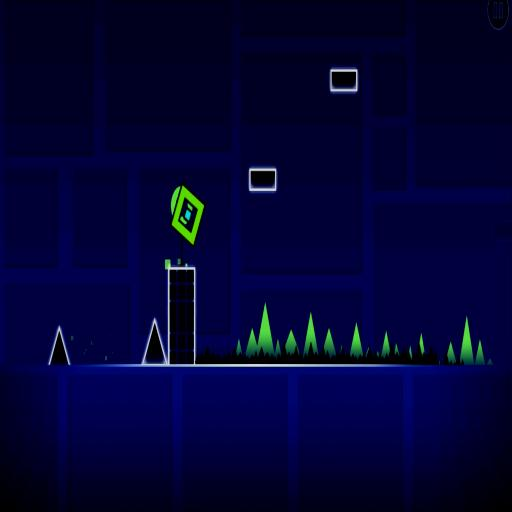block: (167, 263, 198, 372), (246, 163, 280, 196), (326, 60, 359, 94), (489, 215, 512, 245)
player: (170, 184, 205, 246)
spike: (142, 318, 167, 364), (258, 303, 274, 356), (49, 326, 70, 365), (302, 312, 318, 356), (461, 316, 474, 365), (350, 322, 362, 359), (323, 329, 336, 359), (245, 329, 257, 359), (284, 331, 298, 355), (380, 332, 390, 359), (475, 341, 484, 365), (447, 342, 455, 364), (274, 338, 281, 358), (419, 333, 424, 354), (236, 338, 242, 355), (487, 358, 493, 365), (409, 346, 412, 359), (395, 345, 399, 354)
